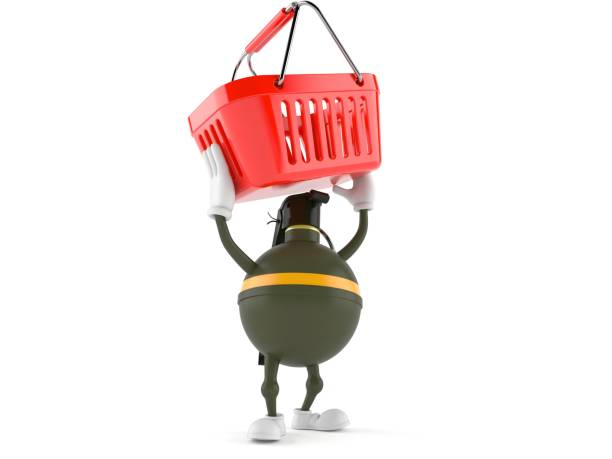e1: (240, 195, 361, 365)
